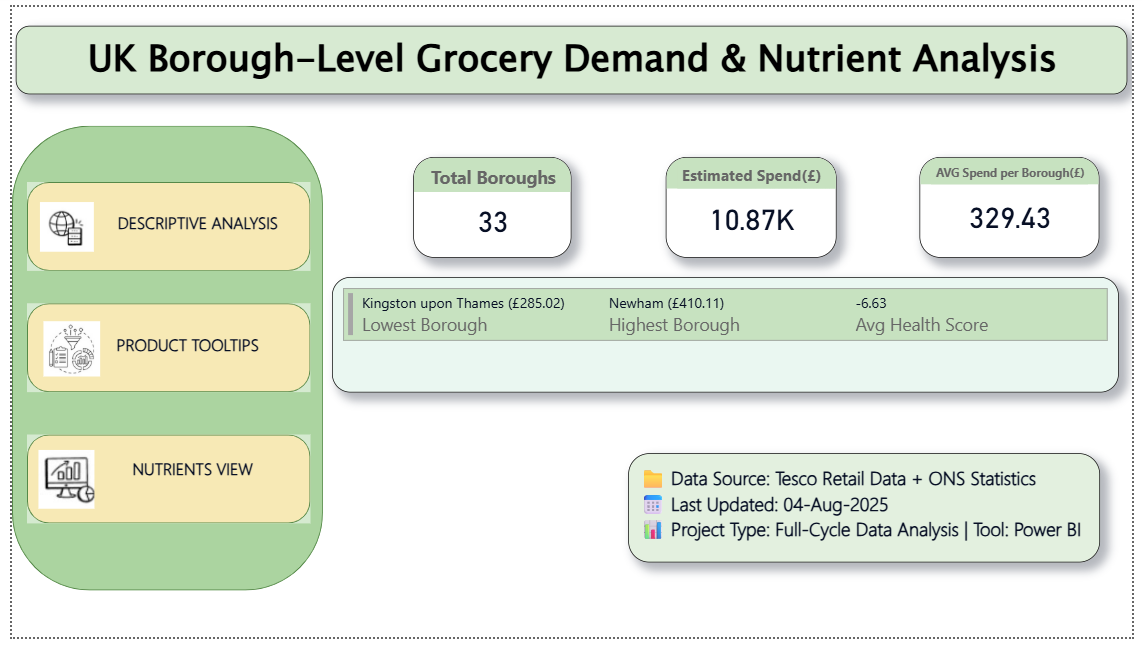

The page's visual inventory and layout, read from the dashboard file:
{"tool":"powerbi","page":{"name":"Title","canvas":[1280,720],"ordinal":0},"visuals":[{"type":"textbox","title":"UK Borough-Level Grocery Demand & Nutrient Analysis","box":[4.1,22,1270.7,78.2],"z":0},{"type":"shape","box":[0,135.8,355.4,531],"z":1000},{"type":"shape","box":[16.5,200.3,323.8,101.5],"z":2000},{"type":"shape","box":[16.5,338.9,323.8,101.5],"z":3000},{"type":"shape","box":[16.5,488.5,323.8,101.5],"z":4000},{"type":"image","title":"DESCRIPTO","box":[27.4,215.4,71.4,71.4],"z":5000},{"type":"textbox","box":[98.8,229.2,227.8,43.9],"z":6000},{"type":"image","box":[27.4,354,82.3,72.7],"z":7000},{"type":"textbox","box":[98.8,369.1,204.5,57.6],"z":8000},{"type":"image","box":[22,500.9,82.3,76.8],"z":9000},{"type":"textbox","box":[104.3,510.5,204.5,57.6],"z":10000},{"type":"card","title":"Total Boroughs","fields":{"Values":["FruitSweetlookup.Total Boroughs"]},"box":[458.3,171.5,181.1,115.3],"z":11000},{"type":"card","title":"Estimated Spend(£)","fields":{"Values":["FruitSweetlookup.Estimated Spend"]},"box":[746.5,171.5,194.9,115.3],"z":12000},{"type":"card","title":"AVG Spend per Borough(£)","fields":{"Values":["FruitSweetlookup.Avg Spend per Borough"]},"box":[1037.4,171.5,205.8,115.3],"z":13000},{"type":"multiRowCard","fields":{"Values":["FruitSweetlookup.Lowest Borough","FruitSweetlookup.Highest Borough","FruitSweetlookup.Avg Health Score"]},"box":[365,308.7,898.8,131.7],"z":14000},{"type":"textbox","box":[703.9,510.5,539.3,124.9],"z":15000}]}

Visuals, with their boxes in screenshot pixels (x1, y1, x2, y2), scaled from the page's 1280x720 canvas onto the 1142x652 screenshot:
"UK Borough-Level Grocery Demand & Nutrient Analysis" textbox: region(4, 20, 1137, 91)
shape: region(0, 123, 317, 604)
shape: region(15, 181, 304, 273)
shape: region(15, 307, 304, 399)
shape: region(15, 442, 304, 534)
"DESCRIPTO" image: region(24, 195, 88, 260)
textbox: region(88, 208, 291, 247)
image: region(24, 321, 98, 386)
textbox: region(88, 334, 271, 386)
image: region(20, 454, 93, 523)
textbox: region(93, 462, 276, 514)
"Total Boroughs" card: region(409, 155, 570, 260)
"Estimated Spend(£)" card: region(666, 155, 840, 260)
"AVG Spend per Borough(£)" card: region(926, 155, 1109, 260)
multiRowCard - FruitSweetlookup.Lowest Borough x FruitSweetlookup.Highest Borough: region(326, 280, 1128, 399)
textbox: region(628, 462, 1109, 575)
